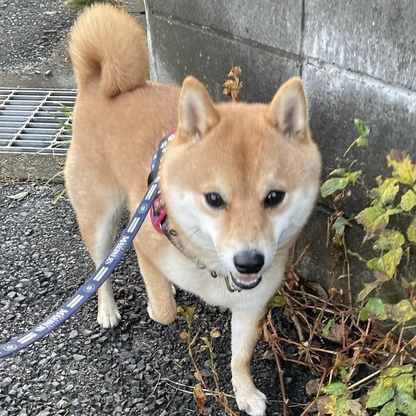shiba: (50, 2, 331, 416)
